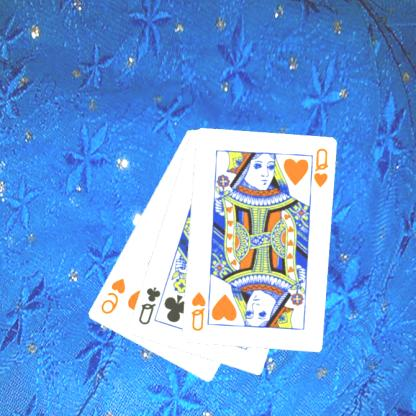9H: (100, 275, 128, 316)
QC: (137, 284, 163, 326)
QH: (308, 145, 331, 194), (190, 289, 209, 333)
